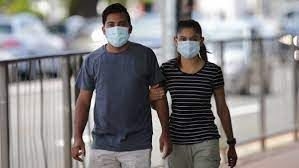FaceMask: (103, 27, 133, 47), (175, 40, 202, 58)
